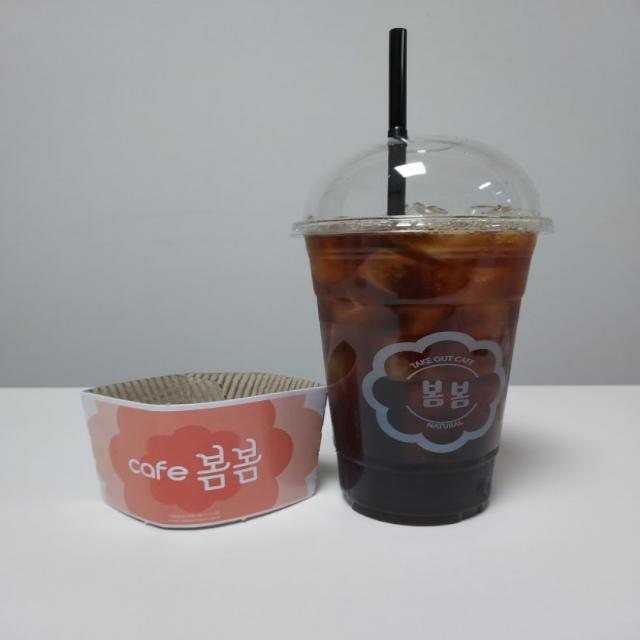cup: (288, 108, 552, 564)
